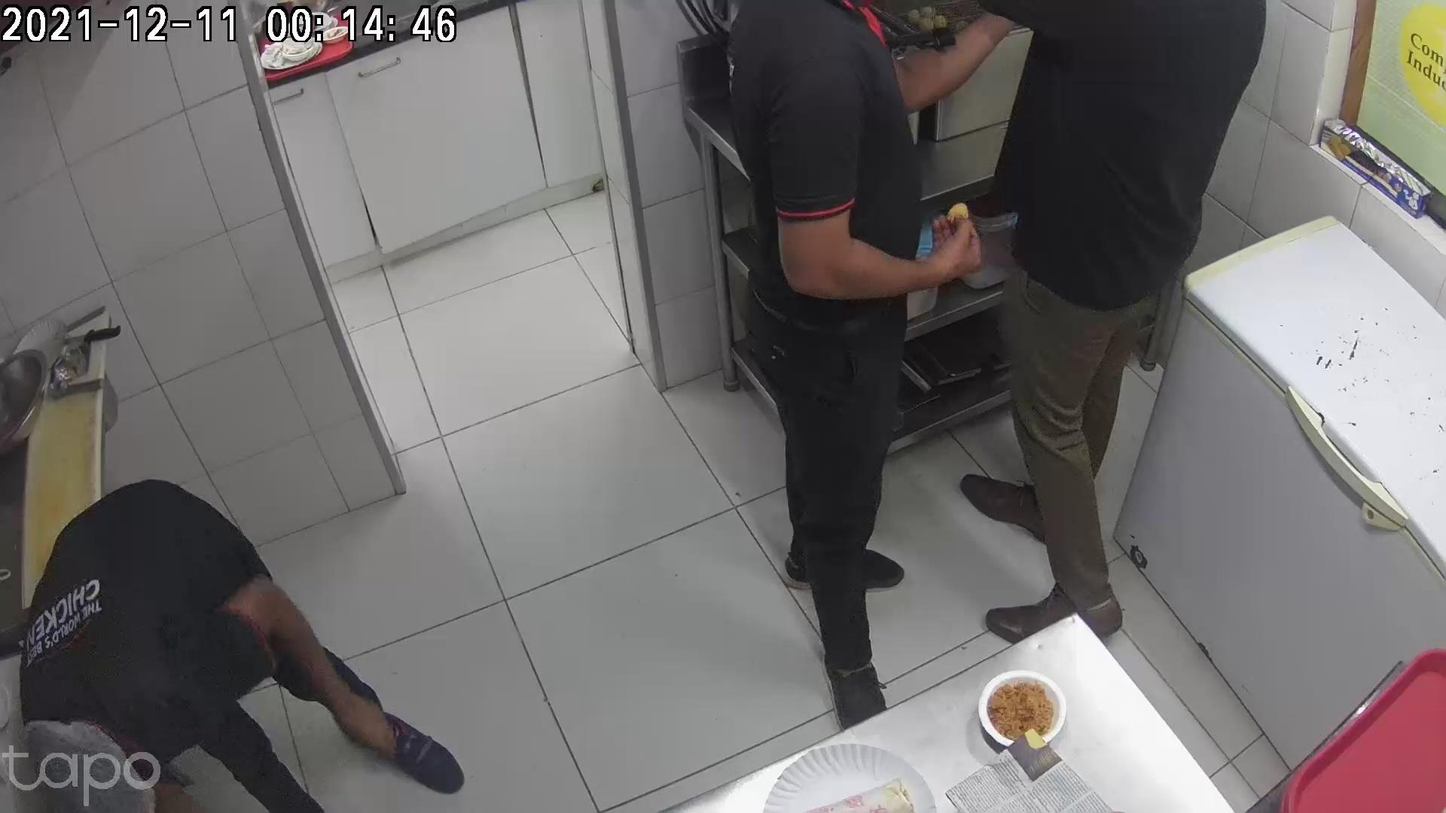no_gloves: (276, 631, 446, 781)
